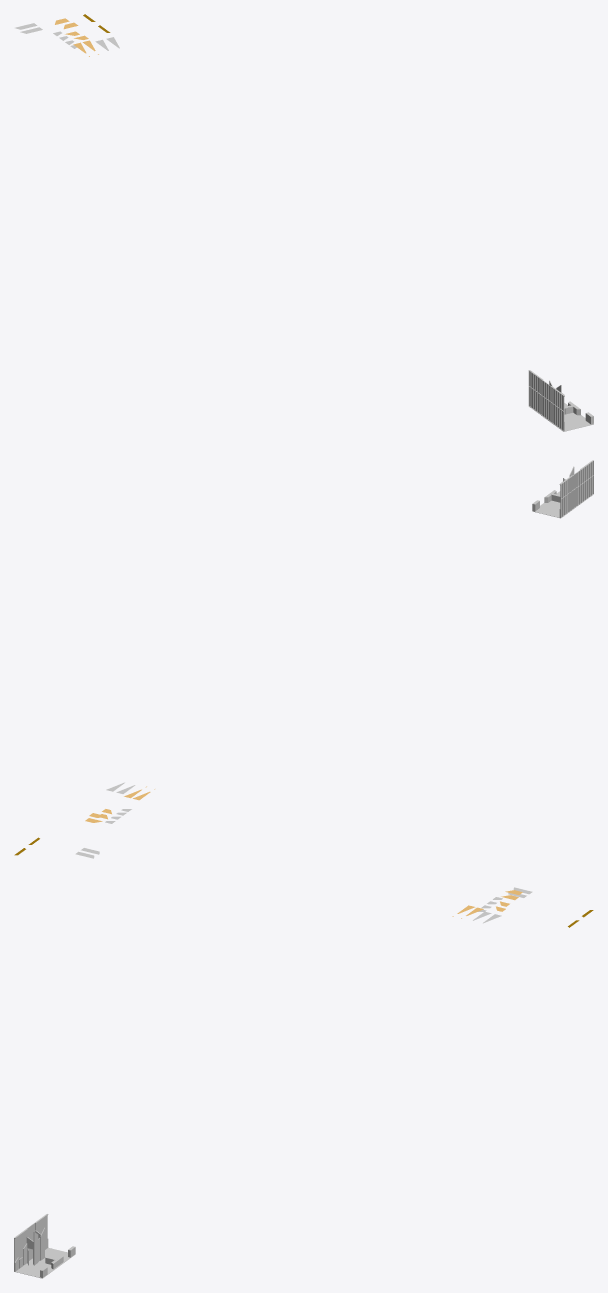
File: KIOGE_4_AB_CONST_PROXY.glb
The picture shows the model from 3 angles, top to bottom: view 1: azimuth 30°, elevation 25°; view 2: azimuth 150°, elevation 25°; view 3: azimuth 330°, elevation 25°; orthographic projection. The views are drawn at different scales.
Bounding box in the file's own units: 10.29 × 4.53 × 125.
